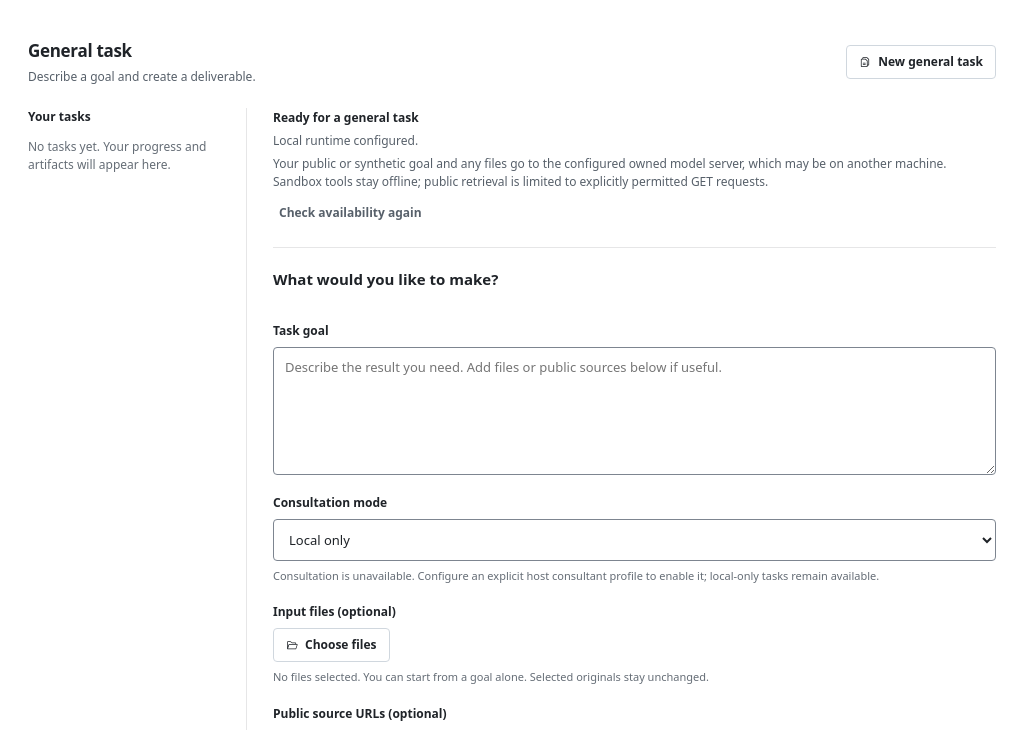
Scenario: general task workspace › rejects an invalid or excessive explicit public-source list
Expected: the text "Ready for a general task" is shown, [273,108,419,126]
Type "Audit the invoice batch" into the text box labelled "Task goal".
click(634, 410); type("Audit the invoice batch")  # box [273,346,996,474]
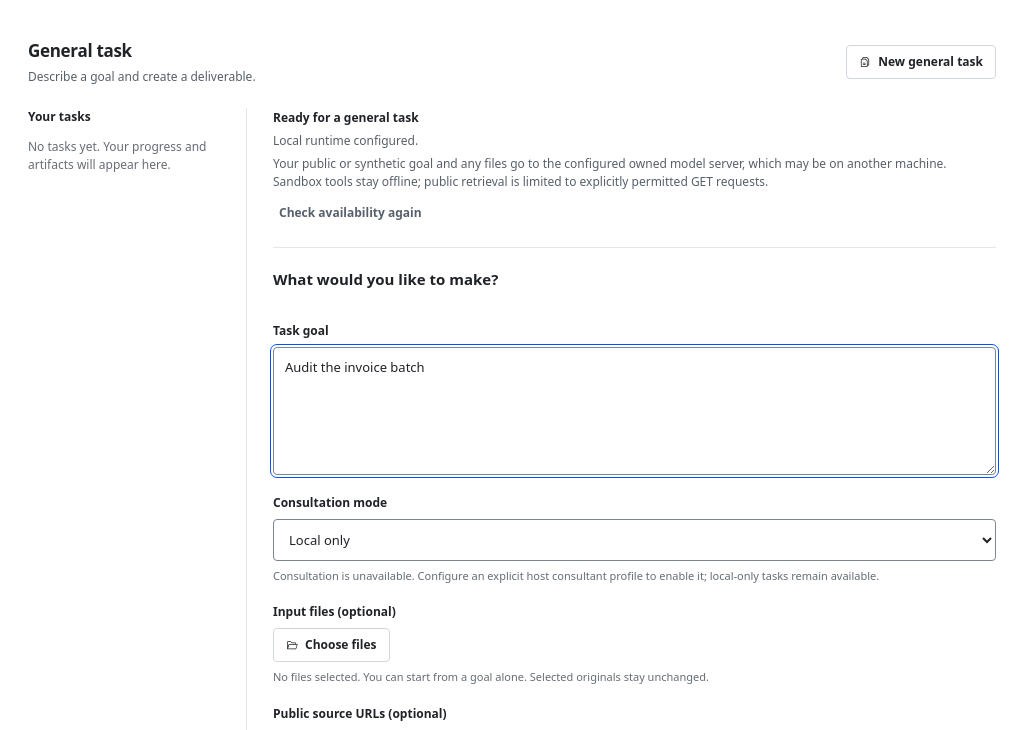
Click the button "Choose files".
click(331, 645)  # box [273,628,390,662]
(page scrolled)
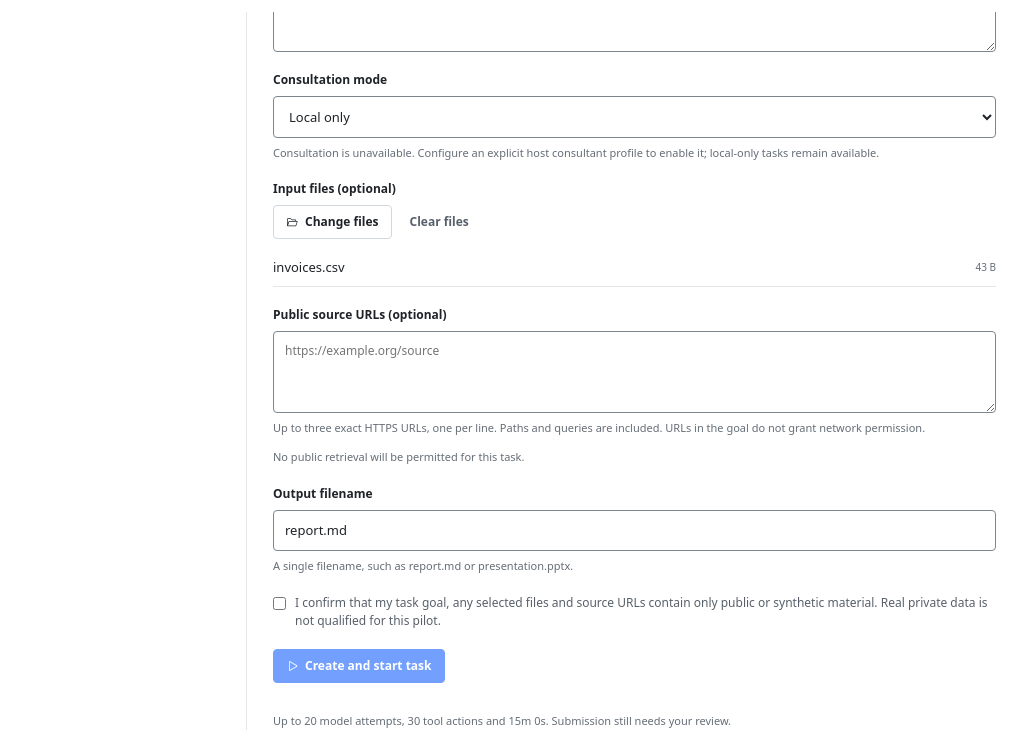
Click the checkbox.
click(280, 603)  # box [273,596,286,610]
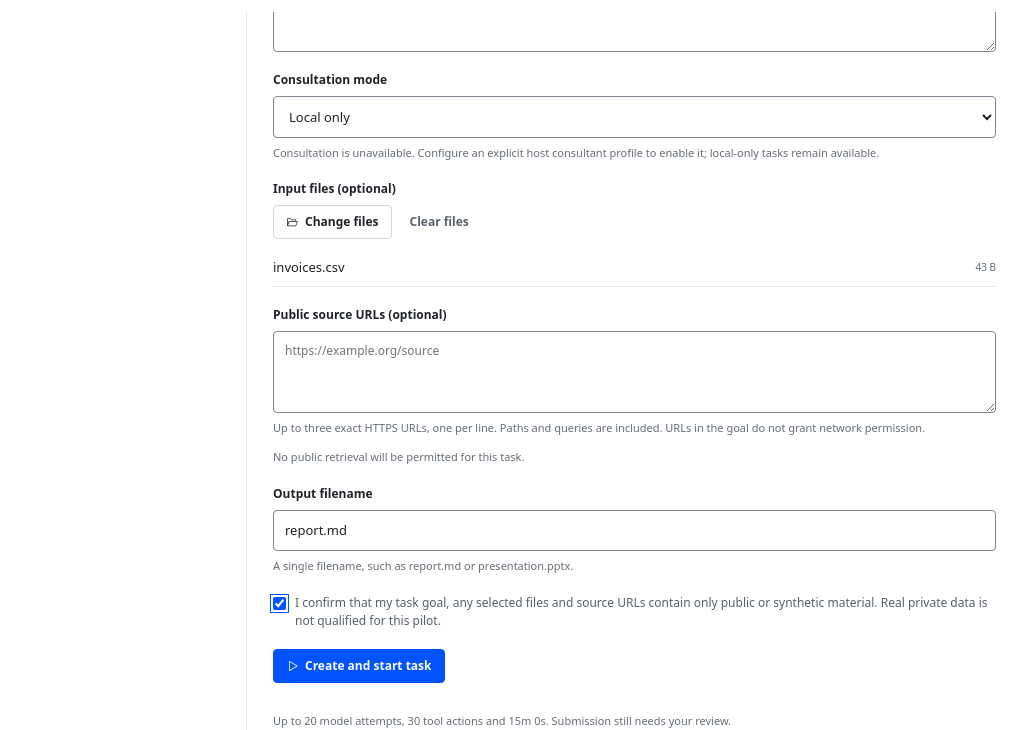
Type "http://example.org/source" into the text box labelled "Public source URLs (optional)".
click(634, 372); type("http://example.org/source")  # box [273,330,996,412]
(page scrolled)
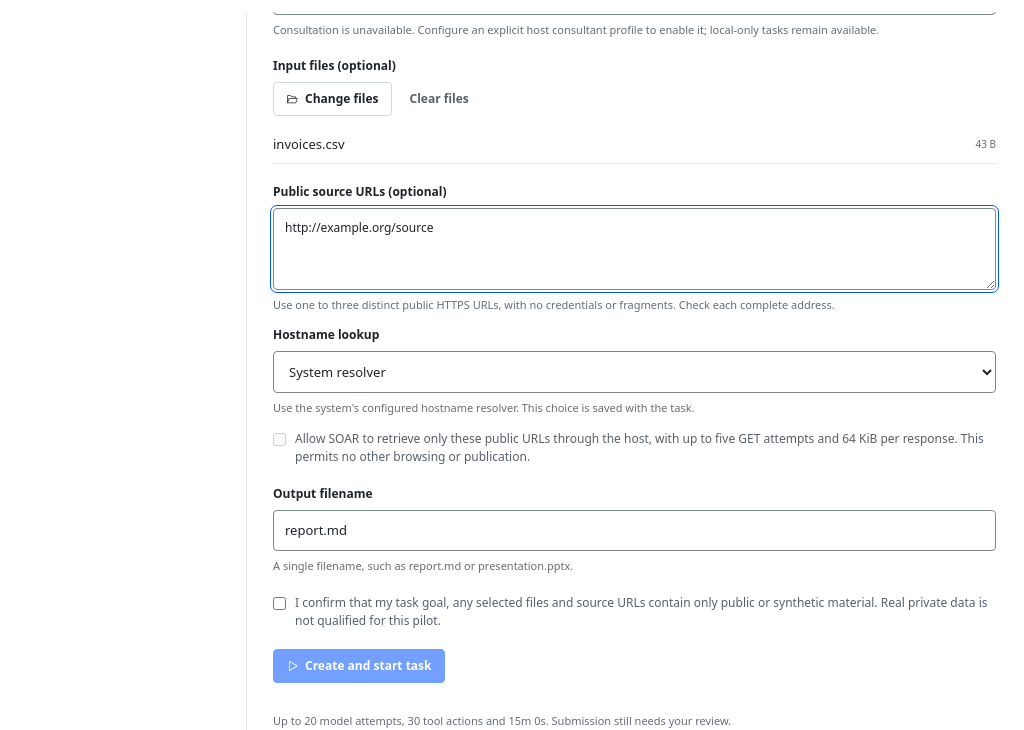
Now the checkbox labelled "Allow SOAR" is disabled, box [273,432,286,446]
Now the button "Create and start task" is disabled, box [273,648,444,682]
